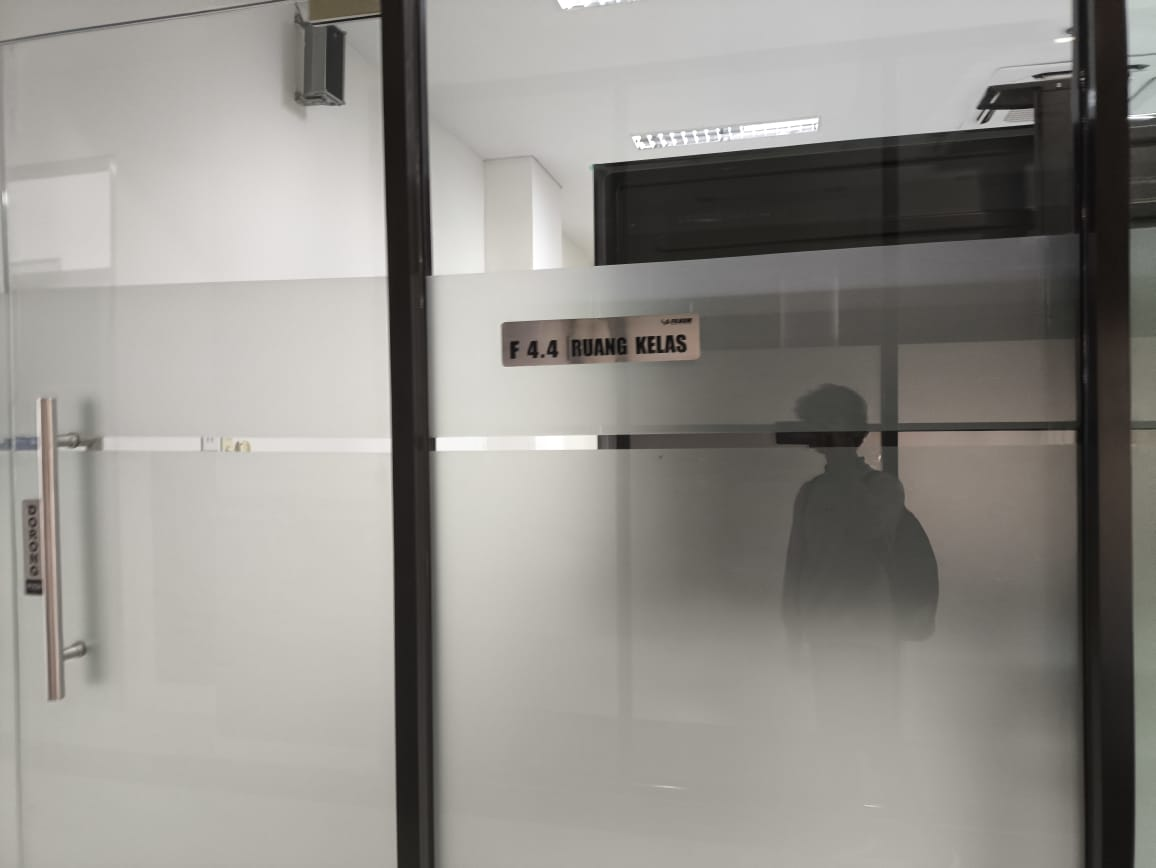ruangan: (497, 309, 705, 370)
